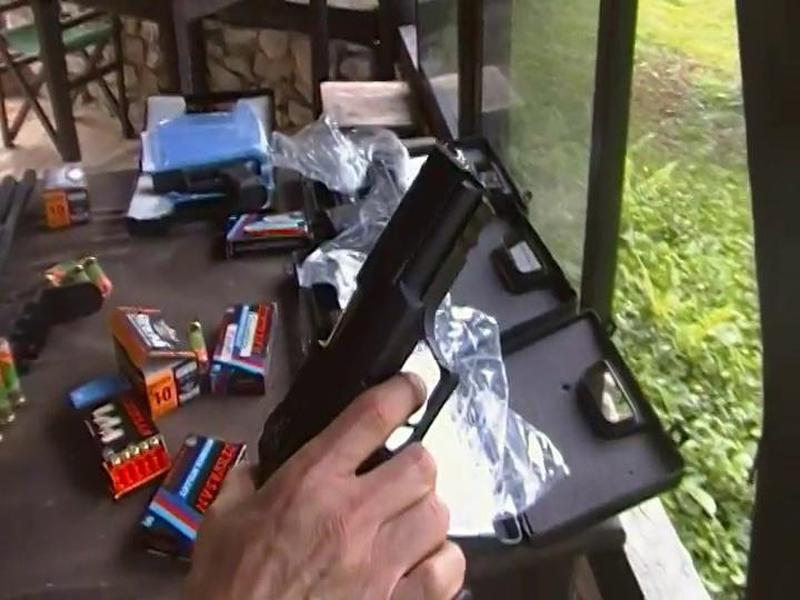Pistola: (240, 125, 503, 516)
